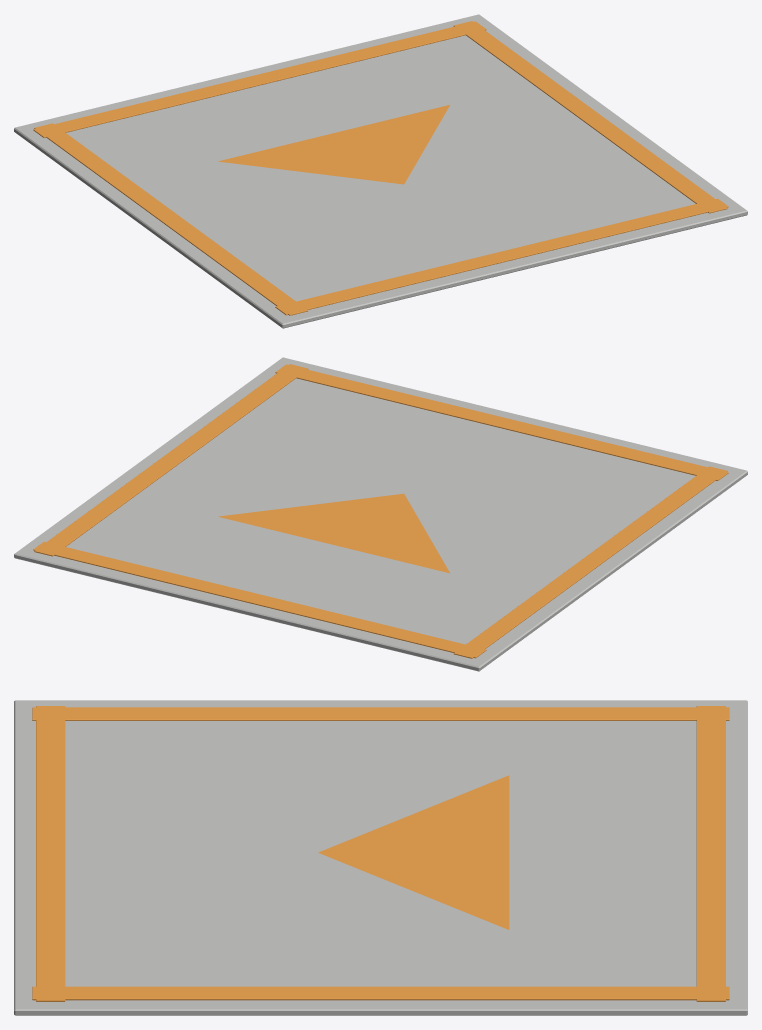
Rendered from aisle-keep-clear-chevron-tile.glb.
3 renders of one model, top to bottom at view 1: azimuth 30°, elevation 25°; view 2: azimuth 150°, elevation 25°; view 3: azimuth 270°, elevation 25°, orthographic. The views are drawn at different scales.
Visible parts, largest first — view 1: aisle-floor-chevron-tile; view 2: aisle-floor-chevron-tile; view 3: aisle-floor-chevron-tile.
Part boxes in pixels (x1,y1,x2,y2): aisle-floor-chevron-tile: (14,14,747,328); aisle-floor-chevron-tile: (14,357,747,671); aisle-floor-chevron-tile: (14,700,747,1015).
Bounding box in the file's own units: 2 × 0.026 × 2.
